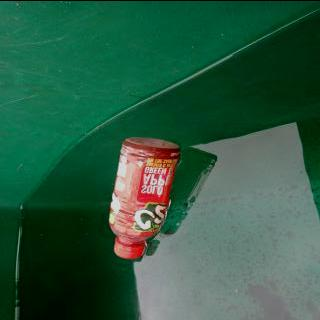bottle: (106, 134, 182, 258)
